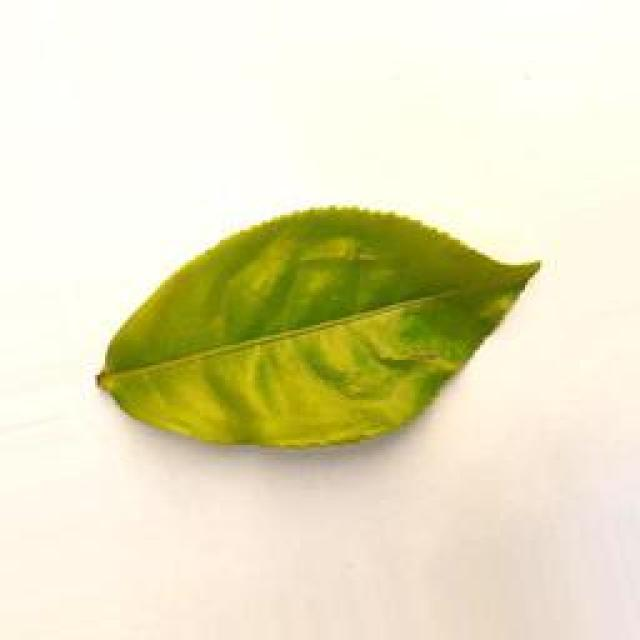Healthy: (93, 191, 543, 464)
